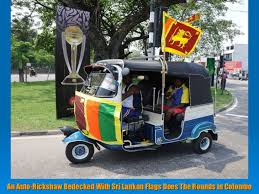tuk tuk: (59, 59, 220, 162)
